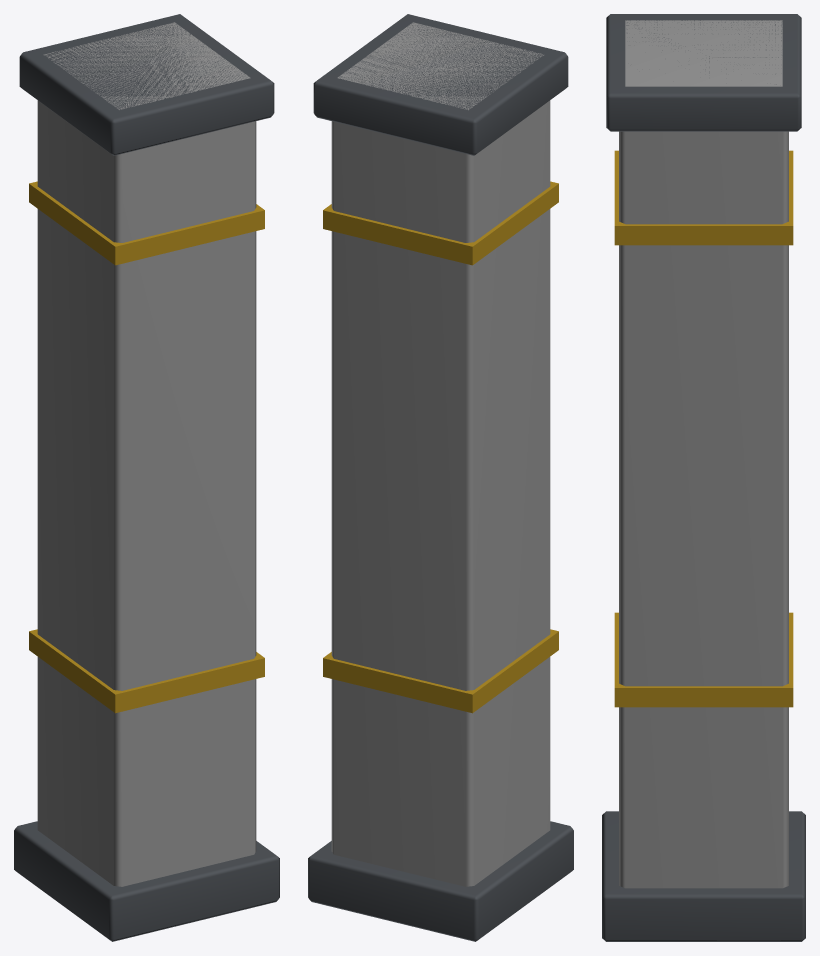
The model's file is Pillar_Metro_4m.fbx.
3 views of the same model, side by side, from view 1: azimuth 30°, elevation 25°; view 2: azimuth 150°, elevation 25°; view 3: azimuth 270°, elevation 25° (orthographic). The views are drawn at different scales.
Visible parts, largest first — view 1: Pillar_Metro_4m_LOD0; view 2: Pillar_Metro_4m_LOD0; view 3: Pillar_Metro_4m_LOD0.
Boxes of the visible parts, x1=… form: Pillar_Metro_4m_LOD0: x1=14, y1=14, x2=279, y2=941; Pillar_Metro_4m_LOD0: x1=308, y1=14, x2=573, y2=941; Pillar_Metro_4m_LOD0: x1=602, y1=14, x2=805, y2=941.
Size of what is drawn, in the model's own units: 0.96 by 4.4 by 0.96.
